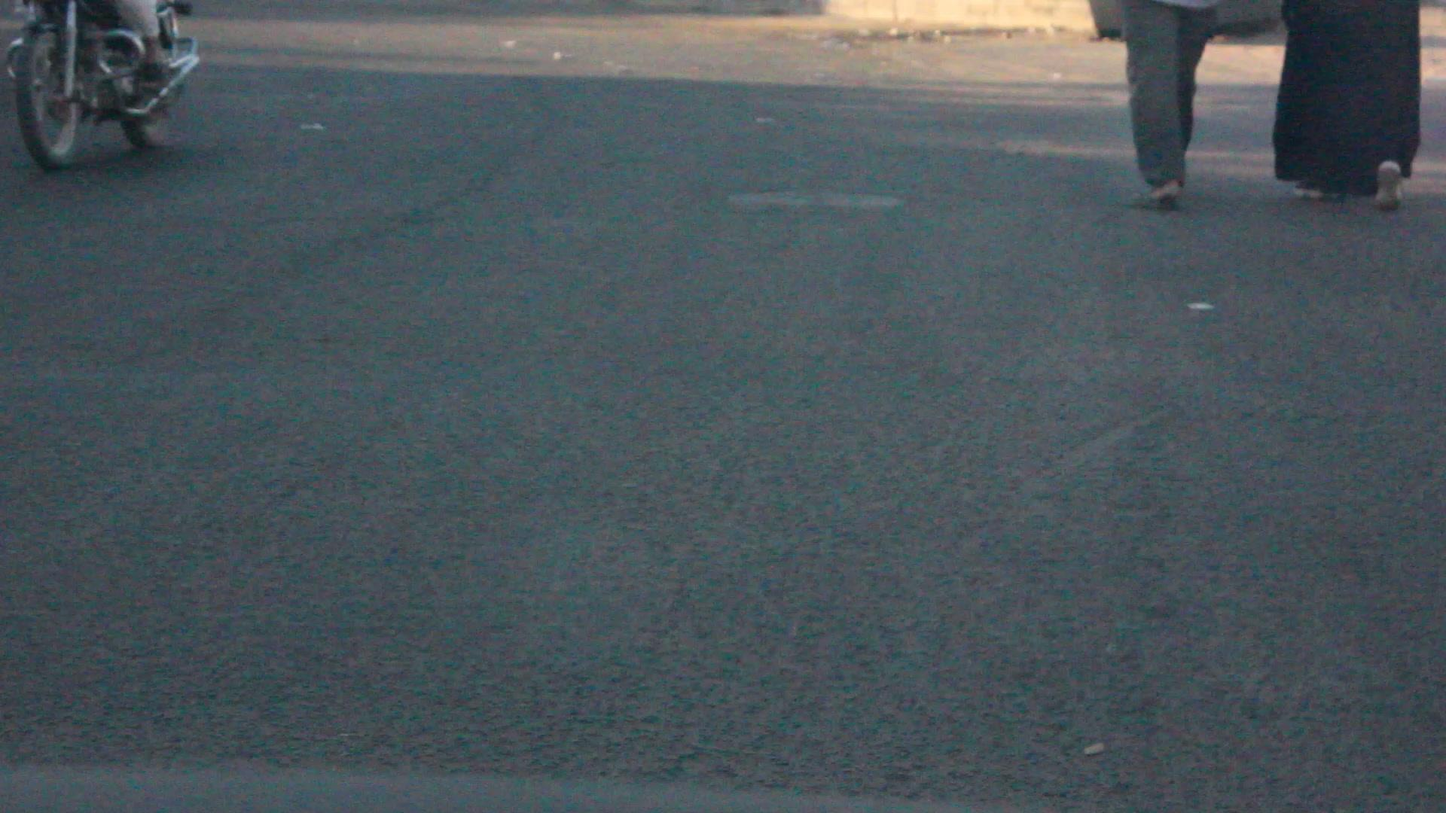Bump: (0, 378, 1446, 495)
